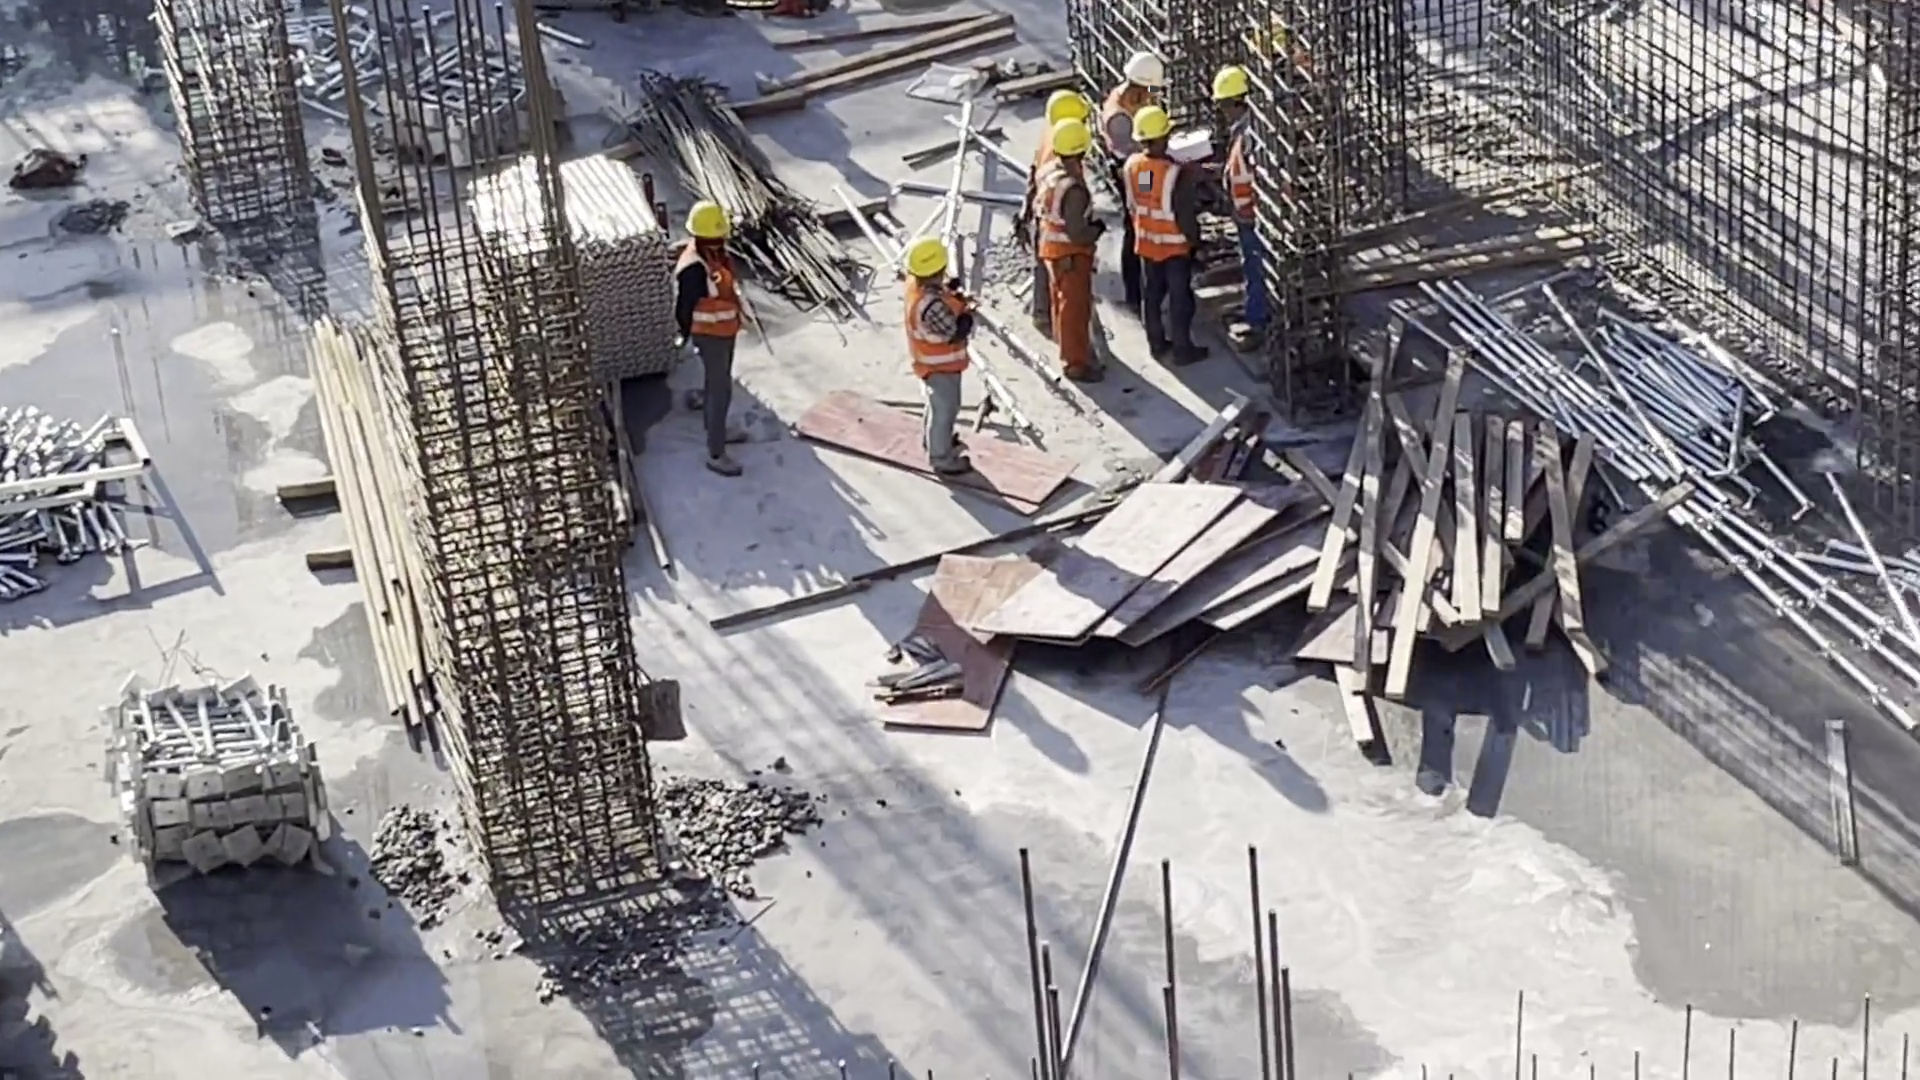board: (1055, 483, 1313, 687)
helmet: (682, 200, 733, 240), (902, 240, 947, 279), (1121, 50, 1166, 88), (1130, 112, 1169, 144), (1209, 71, 1249, 101), (1050, 127, 1084, 154), (1044, 93, 1084, 117)
person: (671, 193, 764, 490), (1205, 62, 1288, 357), (895, 234, 992, 483), (1126, 109, 1211, 373), (1038, 119, 1118, 388), (1099, 52, 1170, 319), (1025, 86, 1087, 334)
rebar: (667, 92, 833, 299)
scaffold: (1533, 304, 1796, 536), (500, 189, 664, 415), (1, 416, 138, 605)
vest: (665, 246, 754, 349), (1116, 165, 1178, 261), (908, 292, 971, 372), (1035, 187, 1085, 271), (1228, 144, 1277, 219)
wood: (1333, 453, 1596, 715)
